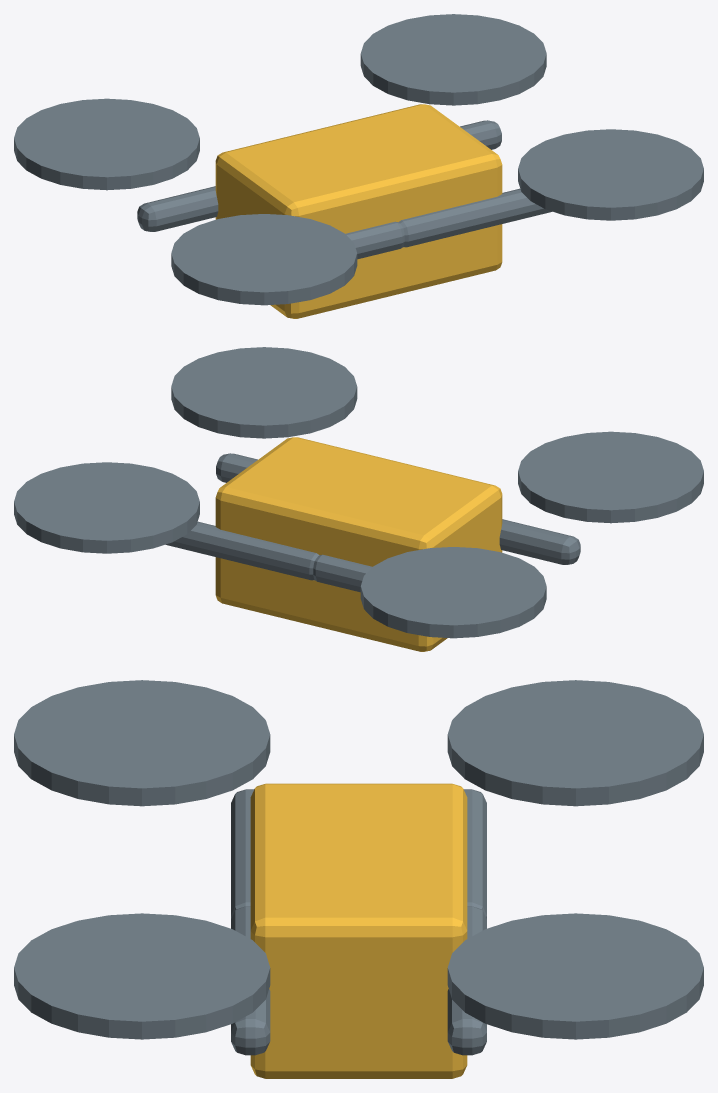
File: Drone.glb
3 renders of one model, top to bottom at view 1: azimuth 30°, elevation 25°; view 2: azimuth 150°, elevation 25°; view 3: azimuth 270°, elevation 25°, orthographic. The views are drawn at different scales.
Visible parts, largest first — view 1: DroneBody, Rotor.003, Rotor, Rotor.001, Rotor.002, Arm.002, Arm.001, Arm, Arm.003; view 2: DroneBody, Rotor.002, Rotor.001, Rotor, Rotor.003, Arm.003, Arm, Arm.001, Arm.002; view 3: DroneBody, Rotor, Rotor.001, Rotor.002, Rotor.003, Arm, Arm.001, Arm.002, Arm.003.
Boxes of the visible parts, x1,y1,x2,y2 form: DroneBody: (215,104,502,318); Rotor.003: (360,14,546,105); Rotor: (171,214,357,305); Rotor.001: (14,98,199,190); Rotor.002: (518,129,703,220); Arm.002: (398,188,552,247); Arm.001: (137,186,218,231); Arm: (345,221,404,259); Arm.003: (460,120,501,149); DroneBody: (215,437,502,651); Rotor.002: (171,347,357,438); Rotor.001: (360,547,546,638); Rotor: (518,431,703,523); Rotor.003: (14,462,199,553); Arm.003: (165,521,319,580); Arm: (499,519,580,564); Arm.001: (313,554,372,592); Arm.002: (216,453,257,482); DroneBody: (250,783,467,1078); Rotor: (14,680,270,806); Rotor.001: (447,680,703,806); Rotor.002: (14,913,270,1039); Rotor.003: (447,913,703,1039); Arm: (231,789,253,918); Arm.001: (464,789,486,918); Arm.002: (231,906,270,1055); Arm.003: (447,906,486,1055).
Size of the model in its own units: 0.82 by 0.18 by 0.7.
